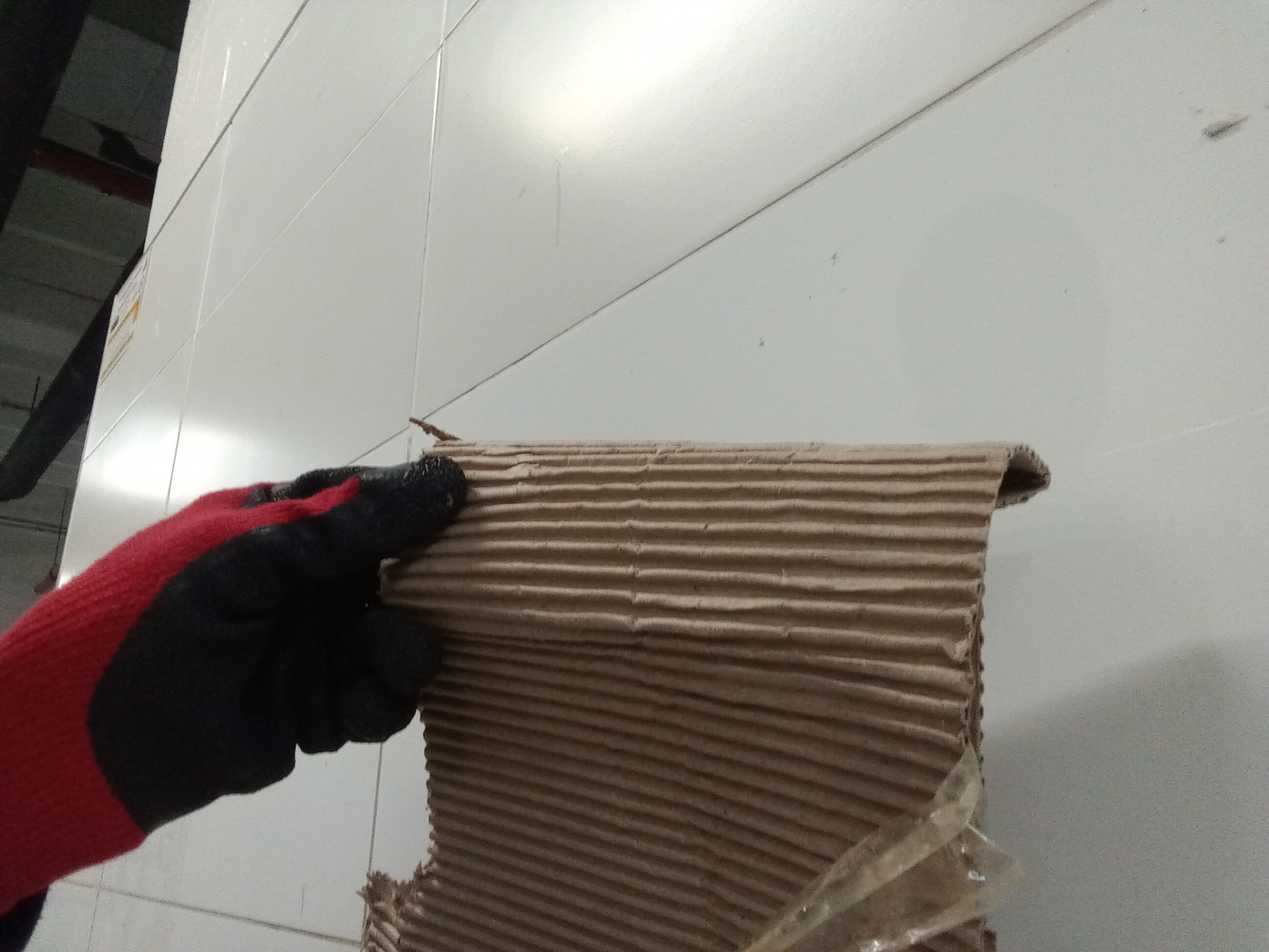Carton: (366, 443, 1053, 952)
